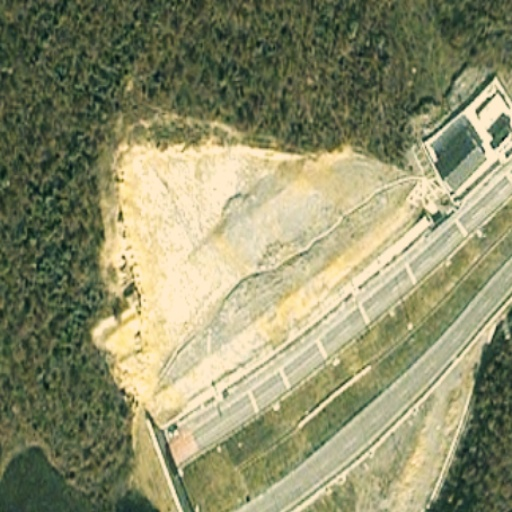landslide: (106, 138, 435, 395)
